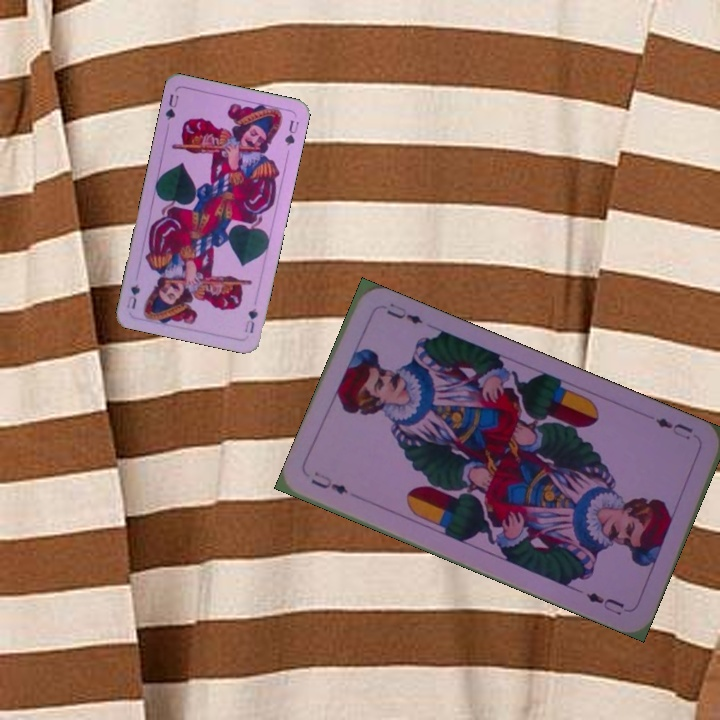EU: (651, 413, 696, 443), (307, 467, 351, 497)
GU: (161, 90, 181, 123), (241, 304, 261, 336)
